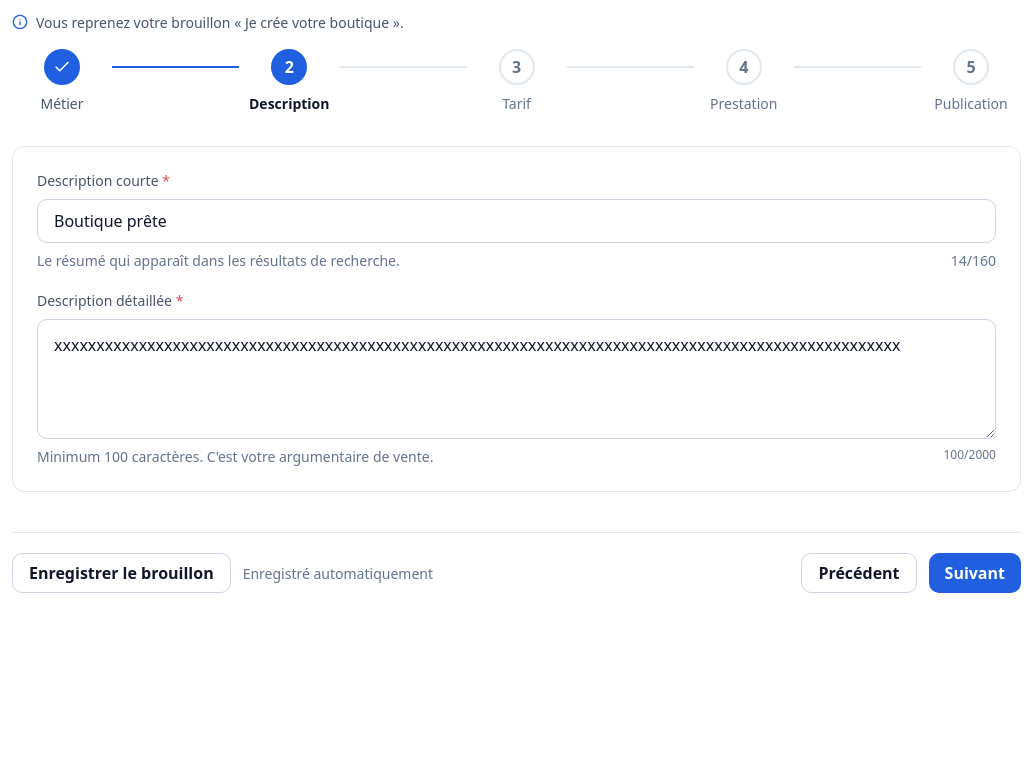
H6 wizard › a « Précédent » clicked while « Suivant »'s save is in flight wins — no jump to step 3
This screenshot has width=1036, height=780.
Replace the text in the field labelled "Description courte *" with "Boutique prête en 7 jours". click: (516, 221)
box: [54,209,979,233]
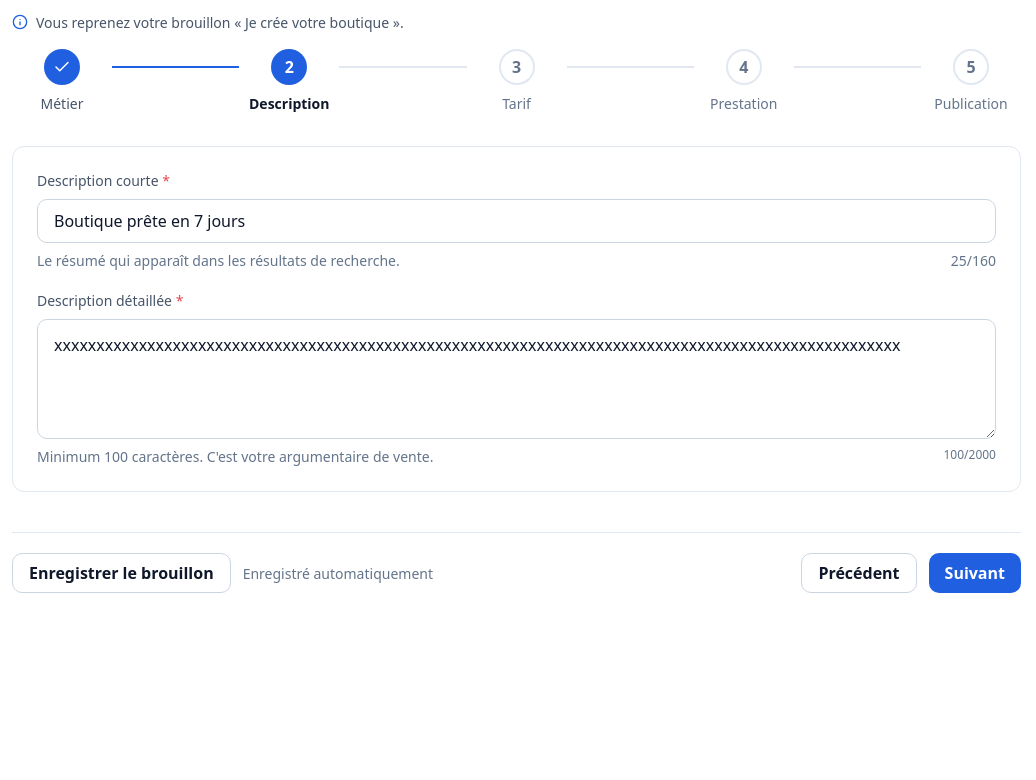
Click the button "Suivant". click: (975, 573)
box: [929,553,1021,593]
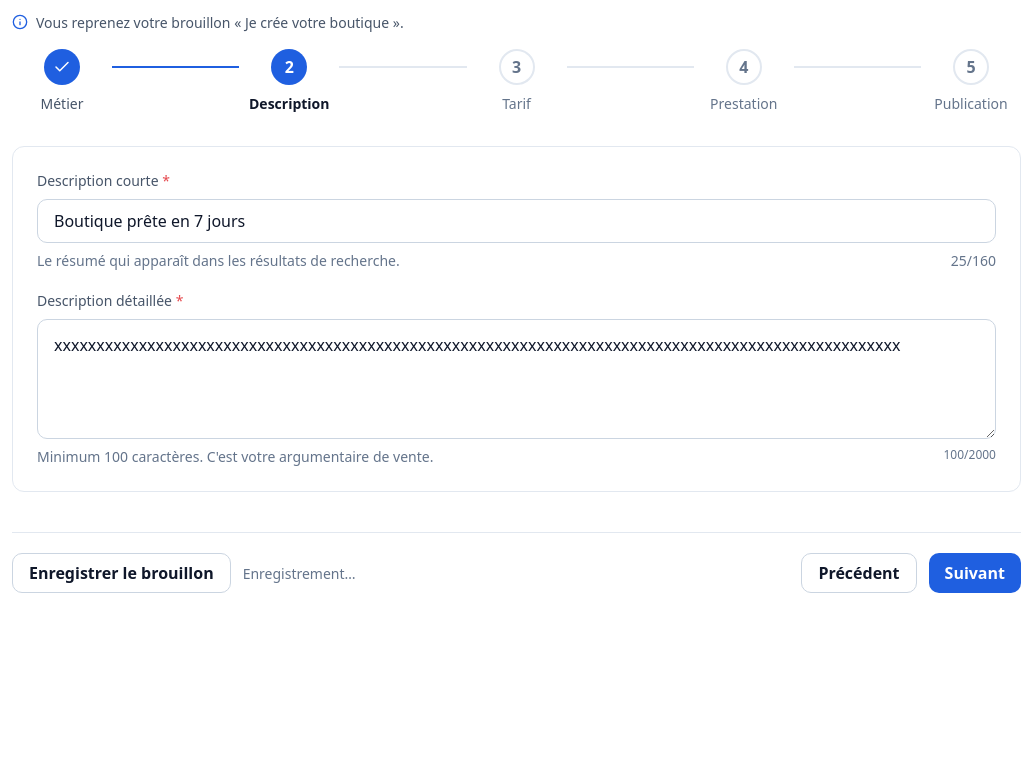
Click the button "Précédent". click: (859, 573)
box: [801,553,917,593]
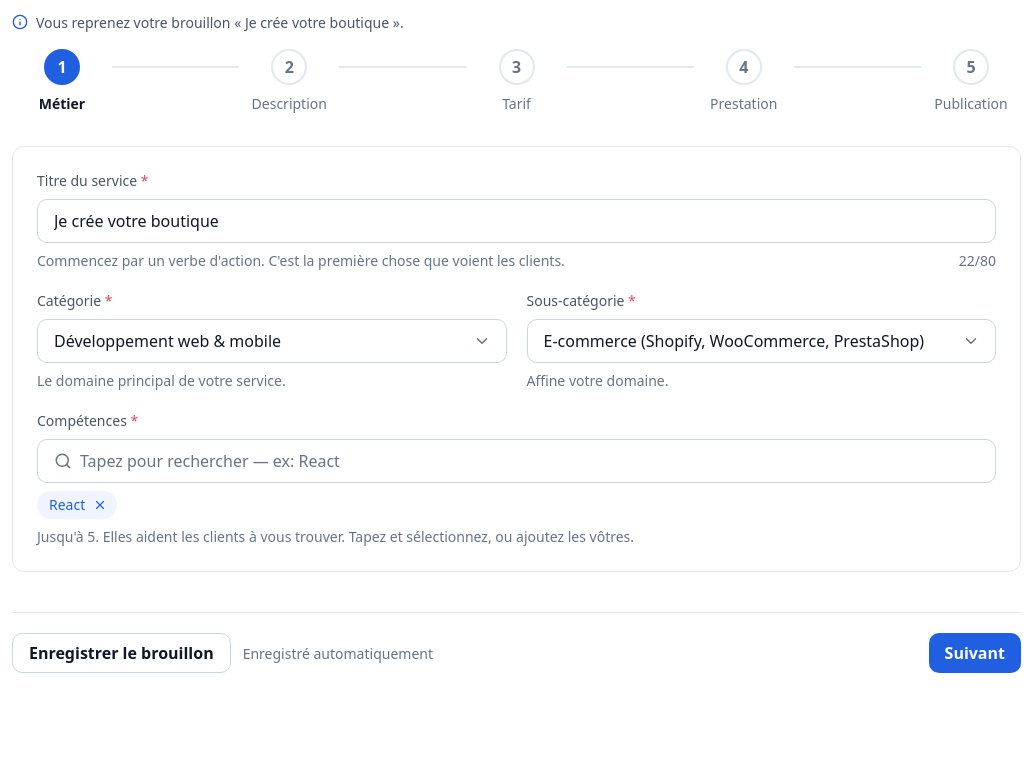
Expected: the field labelled "Titre du service *" is shown, [54,209,979,233]
